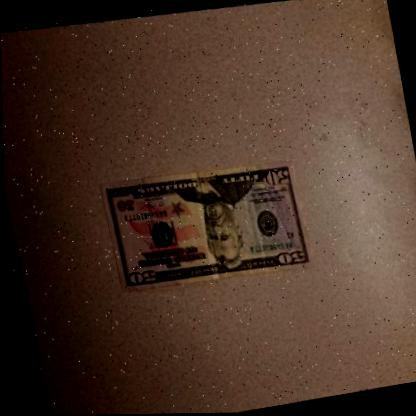dollar_front: (95, 146, 312, 301)
